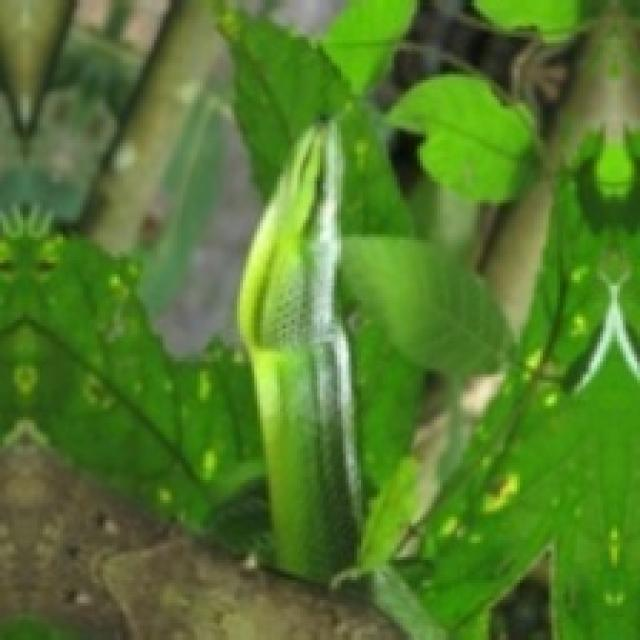red-tailed green ratsnake: (237, 120, 357, 574)
